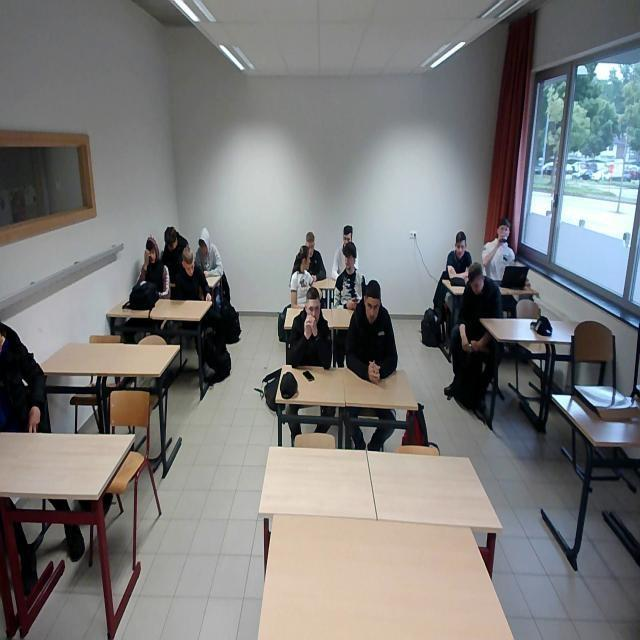phone_use: (333, 241, 364, 308), (160, 226, 186, 281), (195, 227, 221, 275)
